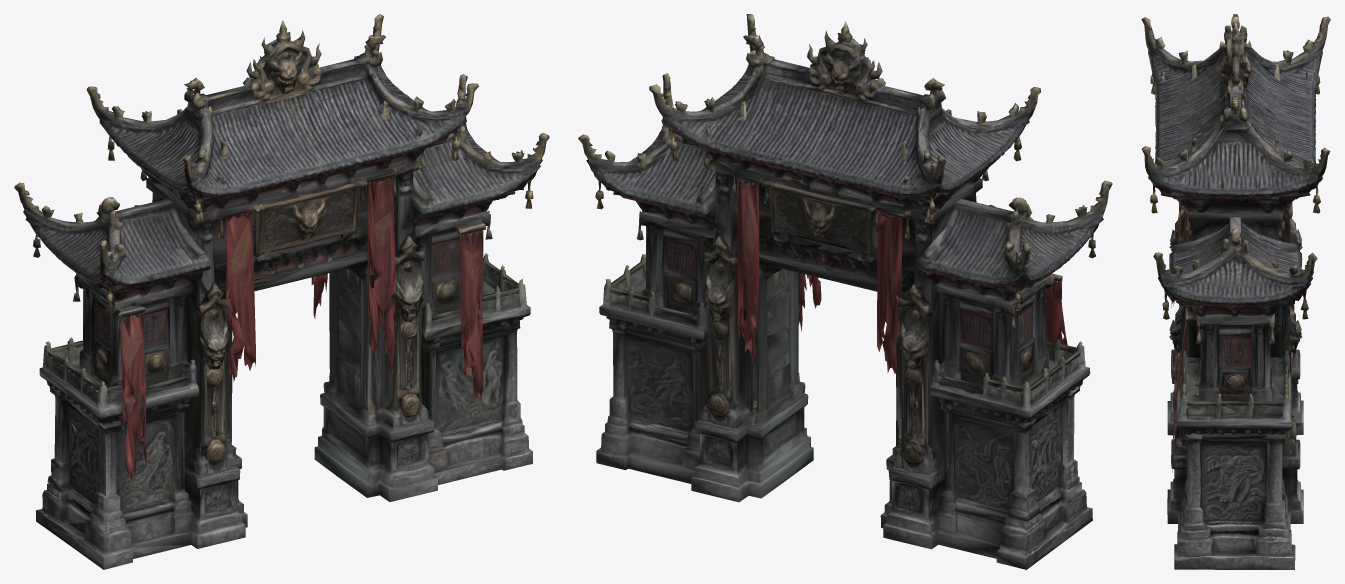
The model's file is judge_gate-welded-28k-r1.glb.
The picture shows the model from 3 angles, left to right: view 1: azimuth 30°, elevation 25°; view 2: azimuth 150°, elevation 25°; view 3: azimuth 270°, elevation 25°; orthographic projection. The views are drawn at different scales.
Visible parts, largest first — view 1: tripo_node_6dd0047c-943c-4607-8f57-2ae5db1aae1b; view 2: tripo_node_6dd0047c-943c-4607-8f57-2ae5db1aae1b; view 3: tripo_node_6dd0047c-943c-4607-8f57-2ae5db1aae1b.
Boxes of the visible parts, <box> form: tripo_node_6dd0047c-943c-4607-8f57-2ae5db1aae1b: <box>14,14,549,569</box>; tripo_node_6dd0047c-943c-4607-8f57-2ae5db1aae1b: <box>578,14,1112,569</box>; tripo_node_6dd0047c-943c-4607-8f57-2ae5db1aae1b: <box>1141,14,1330,569</box>.
Bounding box in the file's own units: 0.9793 × 0.9775 × 0.3751.
Materials: 1 (1 with a texture image).
